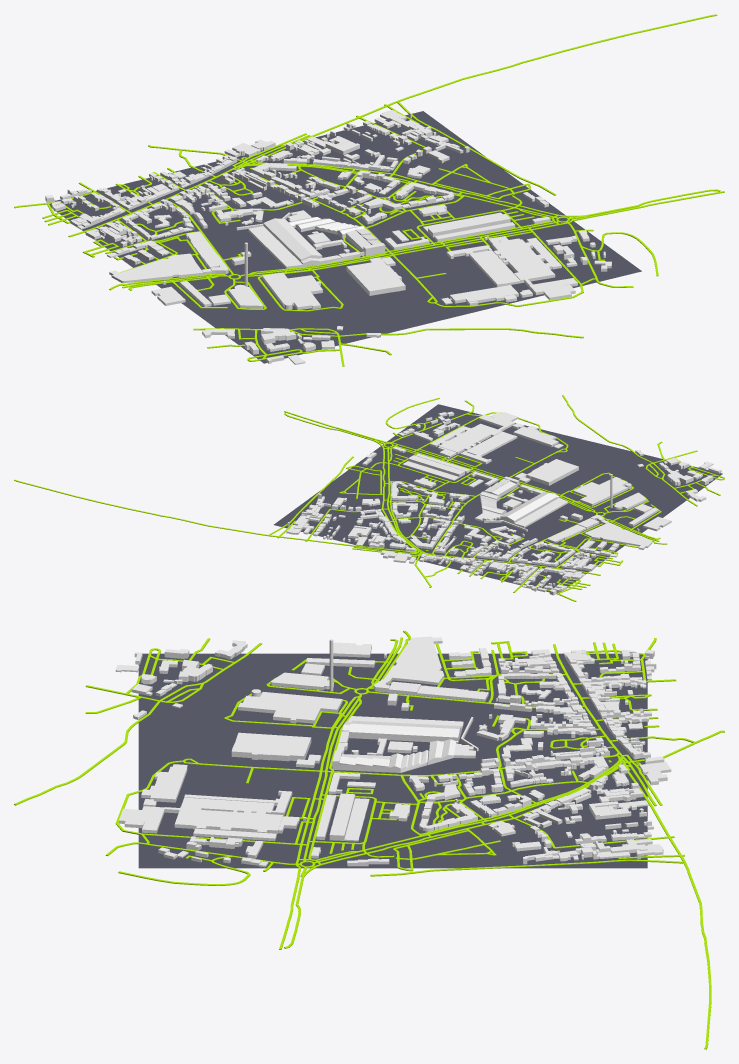
The model's file is Ewoke_Demo_level.fbx.
The picture shows the model from 3 angles, top to bottom: view 1: azimuth 30°, elevation 25°; view 2: azimuth 150°, elevation 25°; view 3: azimuth 270°, elevation 25°; orthographic projection. The views are drawn at different scales.
Parts seen in each view (by area): view 1: Dem_Earth___Object_1, Polygon_Objekt, Sweep, Sweep_2; view 2: Dem_Earth___Object_1, Polygon_Objekt, Sweep, Sweep_2; view 3: Dem_Earth___Object_1, Polygon_Objekt, Sweep, Sweep_2.
Boxes of the visible parts, <box> form: Dem_Earth___Object_1: <box>49,111,641,363</box>; Polygon_Objekt: <box>45,110,611,364</box>; Sweep: <box>14,14,724,365</box>; Sweep_2: <box>154,183,530,361</box>; Dem_Earth___Object_1: <box>273,404,722,594</box>; Polygon_Objekt: <box>286,411,721,595</box>; Sweep: <box>14,395,720,601</box>; Sweep_2: <box>346,448,724,550</box>; Dem_Earth___Object_1: <box>138,653,647,868</box>; Polygon_Objekt: <box>115,636,671,867</box>; Sweep: <box>14,630,724,1049</box>; Sweep_2: <box>142,648,494,871</box>.
Size of the model in its own units: 1943 by 111 by 1396.
